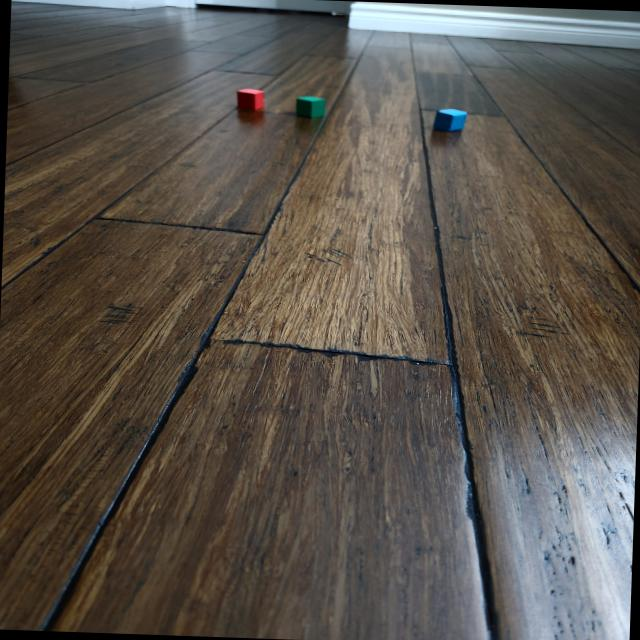bluecube: (435, 108, 465, 132)
green cube: (294, 94, 328, 119)
red cube: (237, 88, 264, 111)
